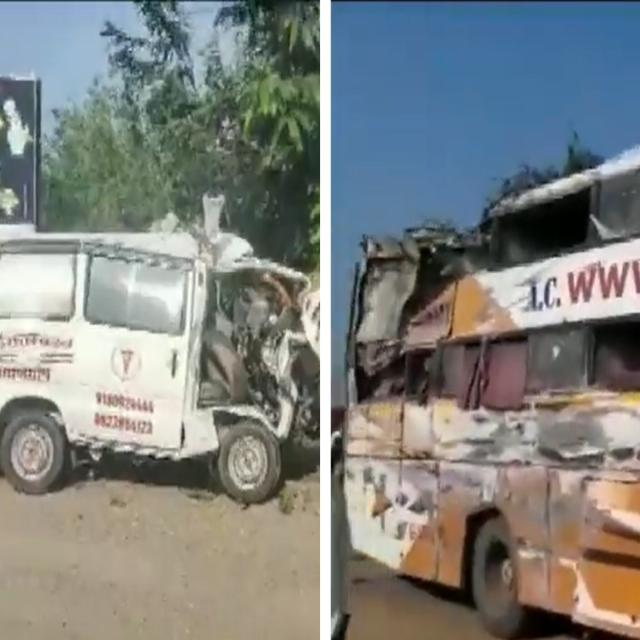accident: (345, 146, 640, 636), (0, 197, 319, 503)
